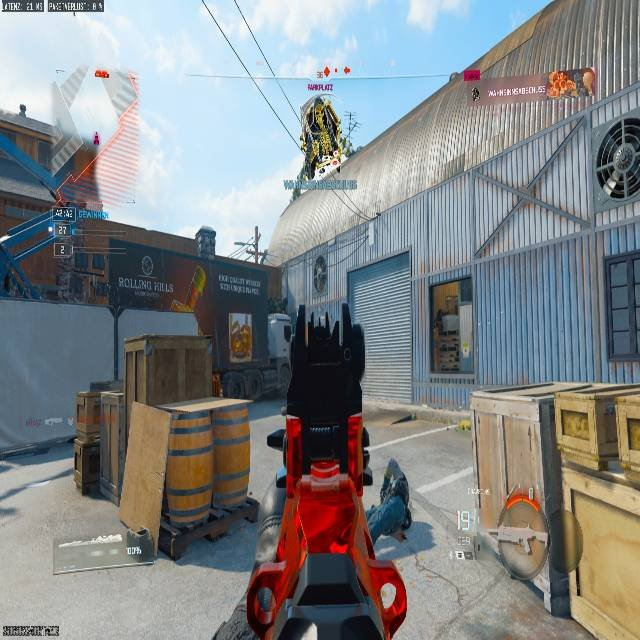player: (299, 94, 347, 179)
